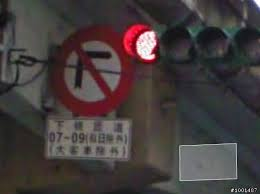No_right_turn: (50, 25, 134, 115)
